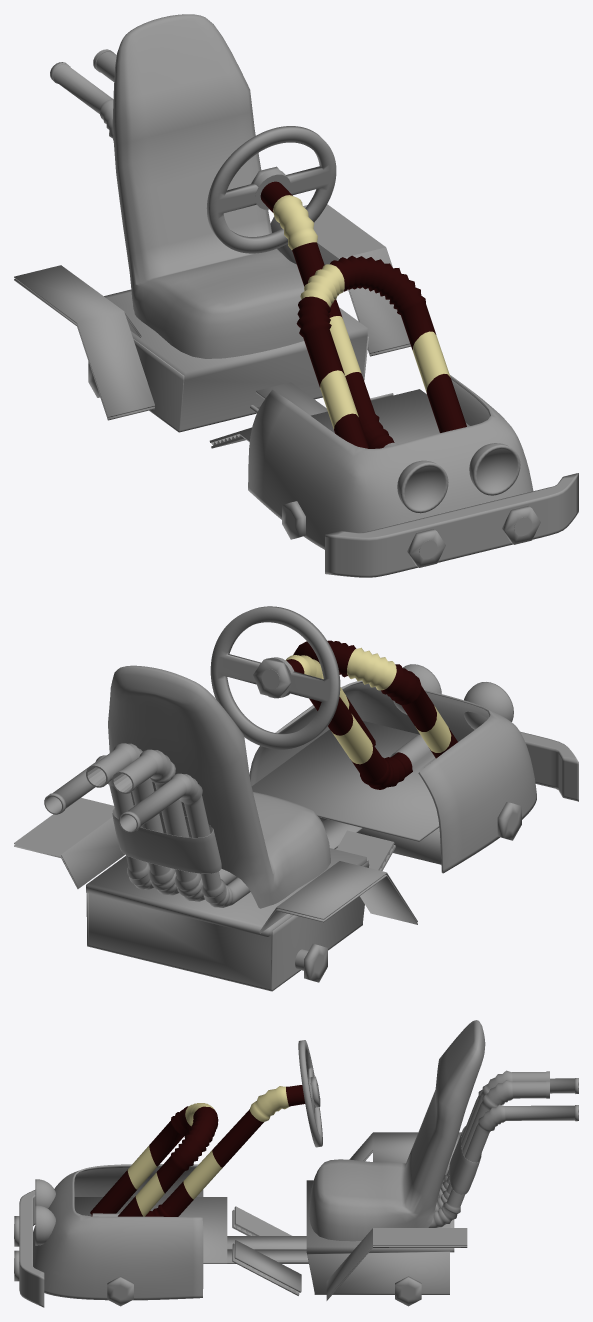
The model's file is carrito sin llantas un solo objeto.FBX.
3 views of the same model, one above another, from view 1: azimuth 30°, elevation 25°; view 2: azimuth 150°, elevation 25°; view 3: azimuth 270°, elevation 25° (orthographic). The views are drawn at different scales.
Visible parts, largest first — view 1: TapaMotor001; view 2: TapaMotor001; view 3: TapaMotor001.
Part boxes in pixels (x1=…): TapaMotor001: x1=14, y1=14, x2=578, y2=577; TapaMotor001: x1=14, y1=606, x2=578, y2=991; TapaMotor001: x1=14, y1=1020, x2=578, y2=1307.
Bounding box in the file's own units: 157 × 158 × 332.
